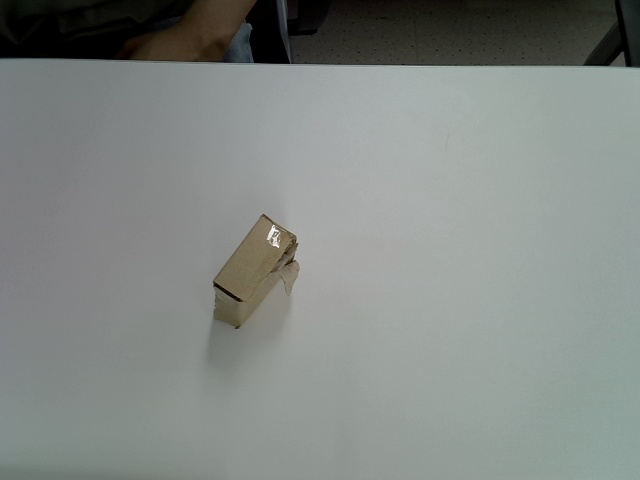defect: (212, 214, 300, 328)
